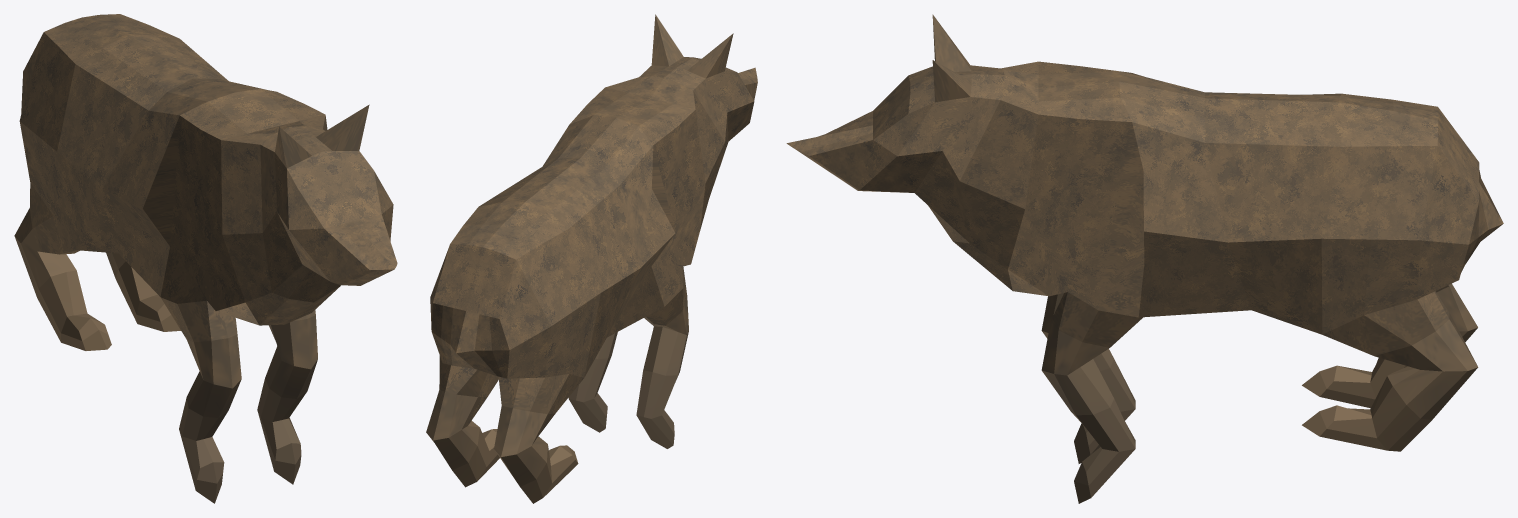
The model's file is piesblend_000032.obj.
3 views of the same model, side by side, from view 1: azimuth 30°, elevation 25°; view 2: azimuth 150°, elevation 25°; view 3: azimuth 270°, elevation 25° (orthographic). The views are drawn at different scales.
Visible parts, largest first — view 1: Cube; view 2: Cube; view 3: Cube.
Boxes of the visible parts, x1=… form: Cube: x1=14, y1=14, x2=397, y2=503; Cube: x1=426, y1=14, x2=757, y2=503; Cube: x1=786, y1=14, x2=1503, y2=503.
Size of the model in its own units: 2.56 by 6.58 by 9.57.
1 material, 1 textured.
